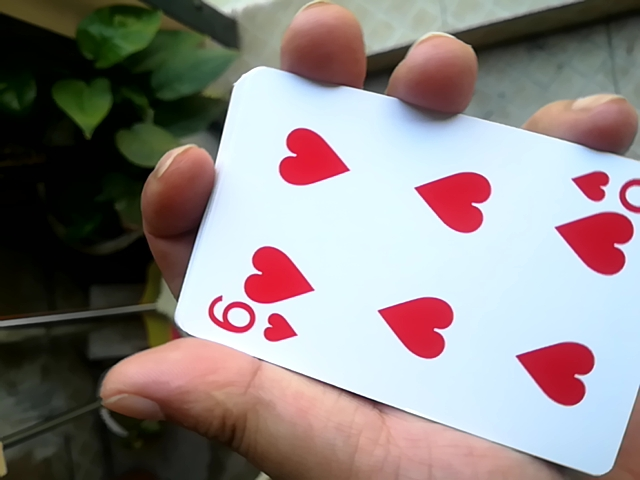hx 6: (166, 69, 638, 467)
